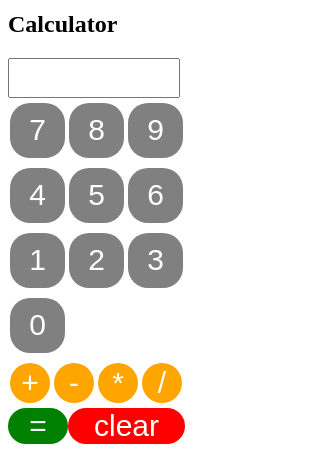
Scenario: Testing Calculator › should show user input after clicking  numbers and operations
Click the button "1".
click(38, 260)  # box [10,233,65,288]
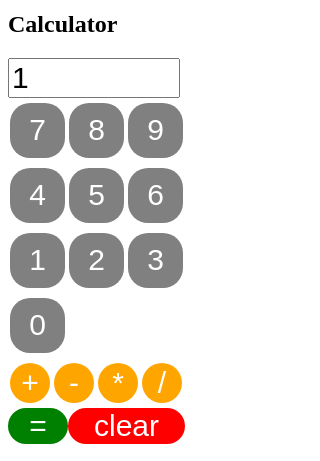
Click the button "+".
click(30, 383)  # box [10,363,50,403]
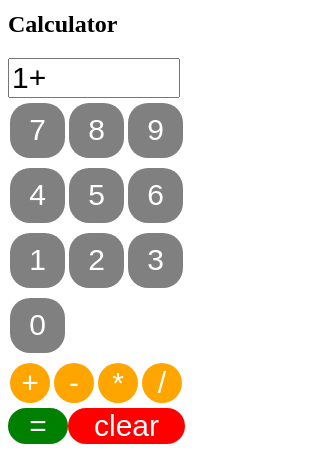
Click the button "2".
click(96, 260)  # box [69,233,124,288]
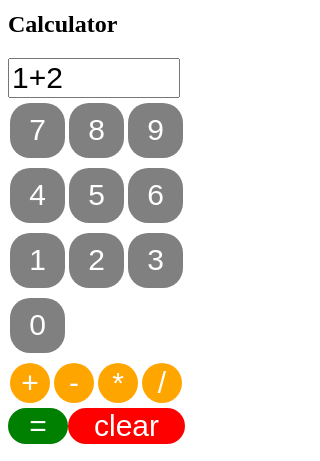
Result: the field holds "1+2" at [8,58,180,98]
